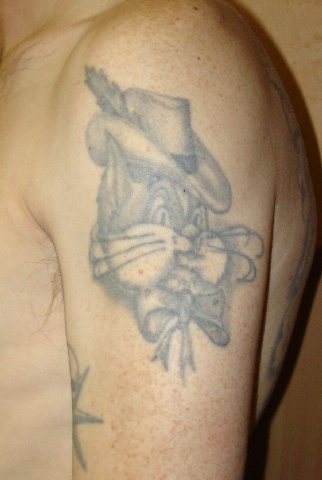tatu8_kot: (65, 60, 267, 376)
